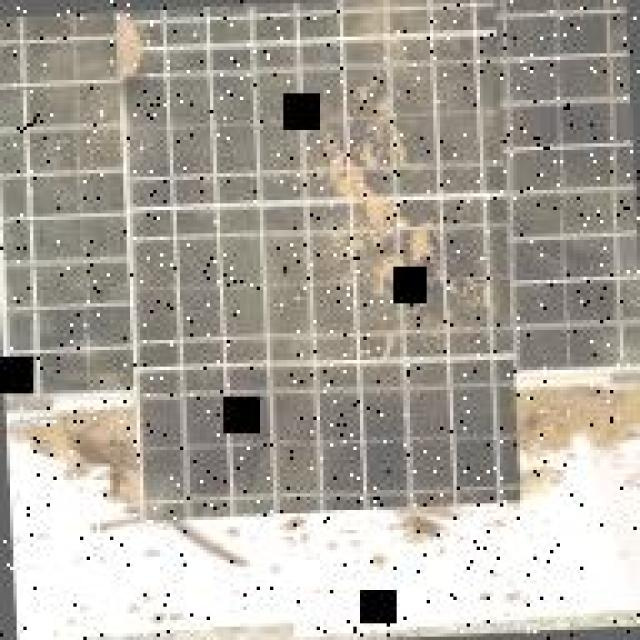dust-solar-panel: (0, 0, 640, 516)
